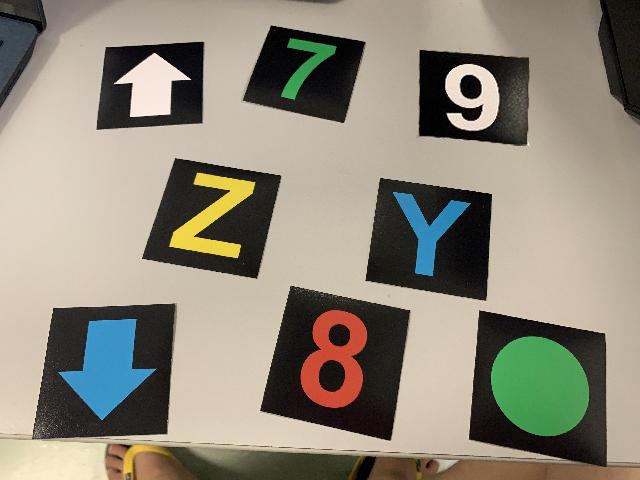alphabet_y: (365, 175, 494, 301)
alphabet_z: (167, 157, 271, 271)
down_arrow: (44, 302, 177, 431)
eight: (276, 292, 399, 432)
go: (467, 309, 608, 466)
nine: (419, 51, 529, 146)
seven: (241, 24, 367, 124)
up_arrow: (102, 41, 202, 125)
